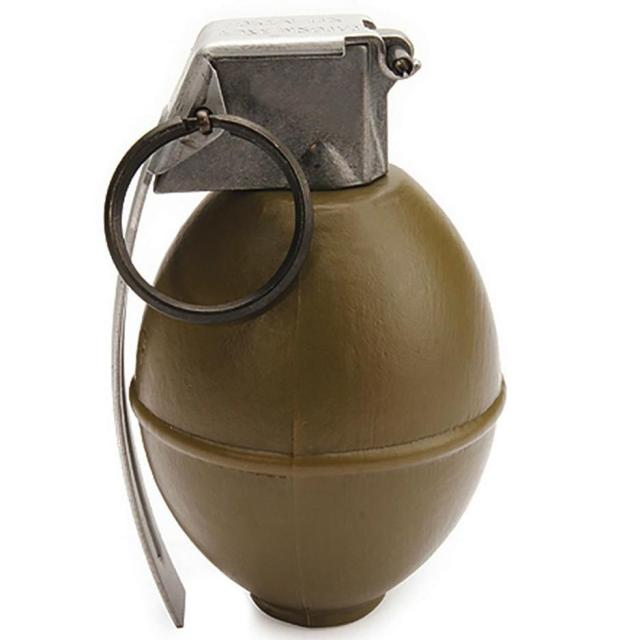grenade: (104, 16, 508, 631)
